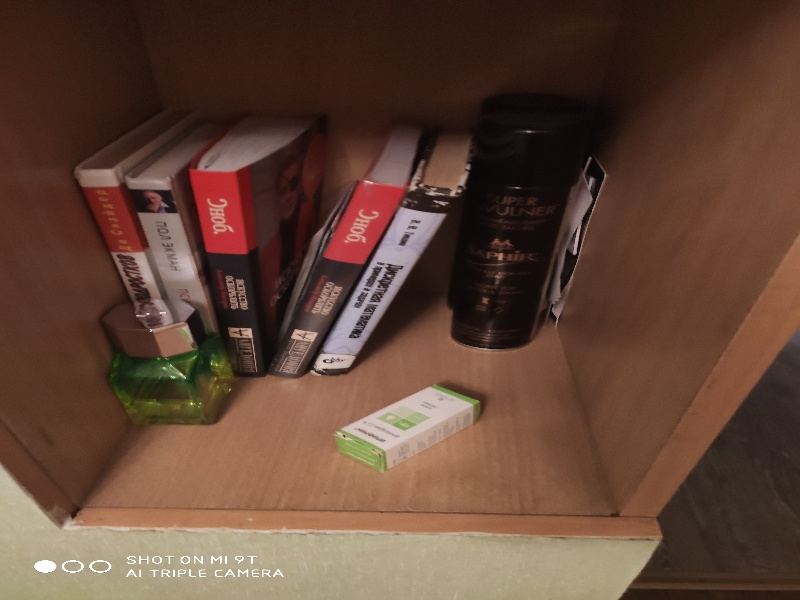ifrin: (328, 378, 488, 471)
